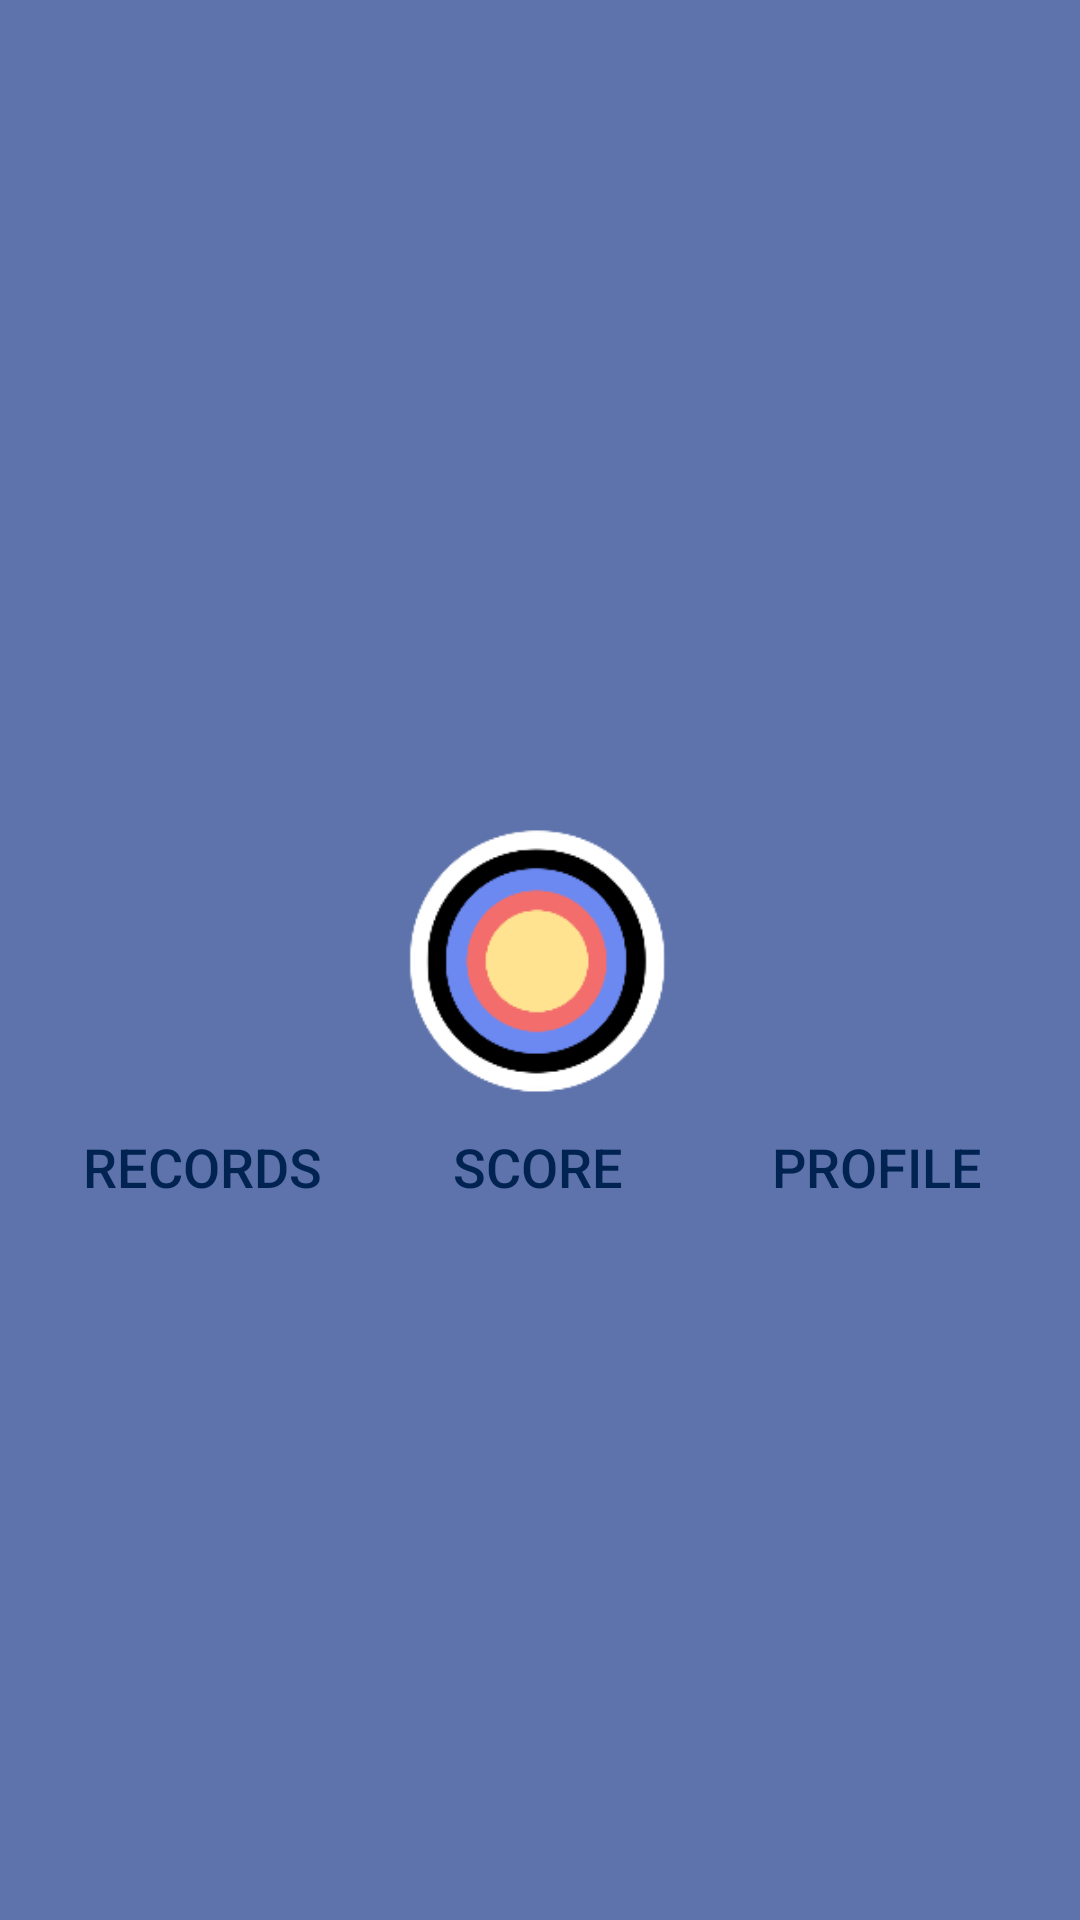

Locate icon controls on the screen. Image size 1080x1920, boxes as (x1, y1, x2, y2).
target: (410, 830, 665, 1092)
